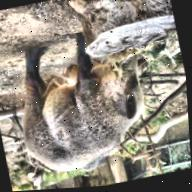boar: (0, 11, 181, 192)
